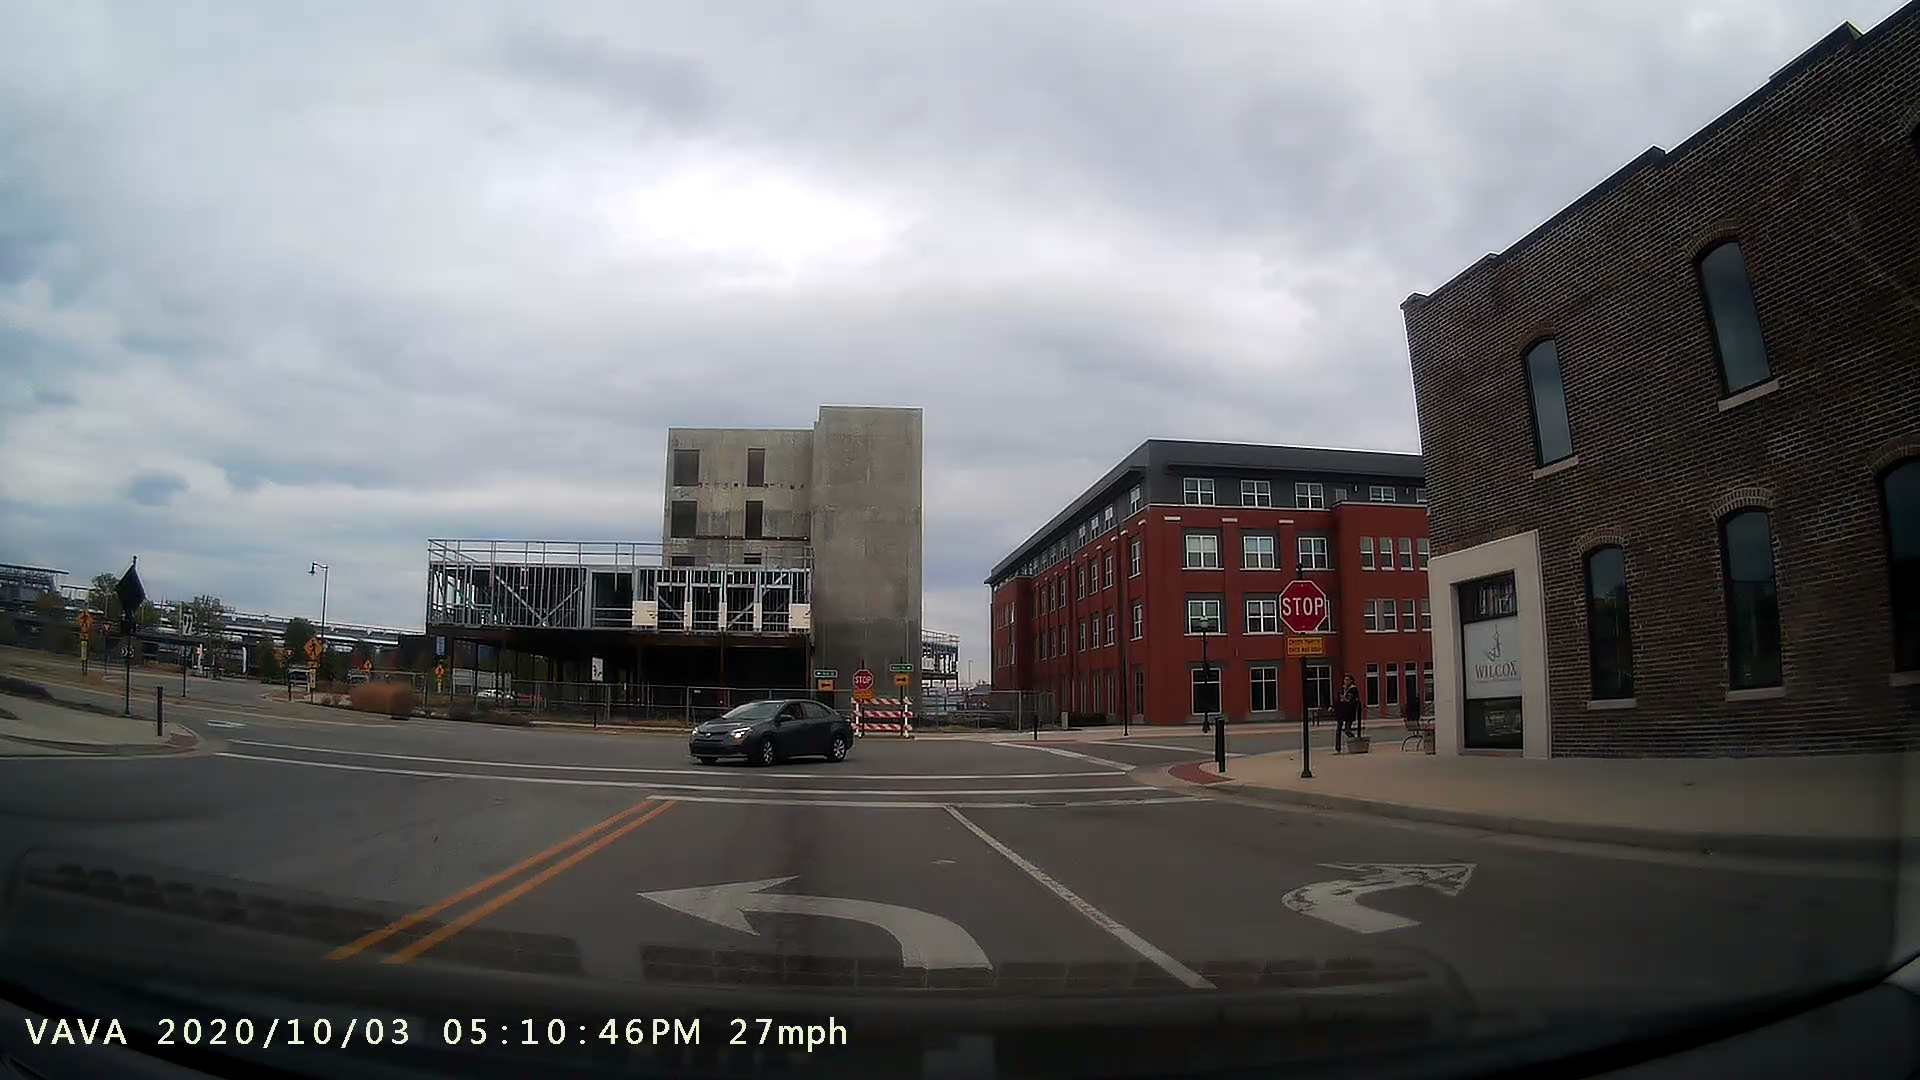left_turn: (617, 848, 998, 960)
right_turn: (1271, 853, 1495, 938)
